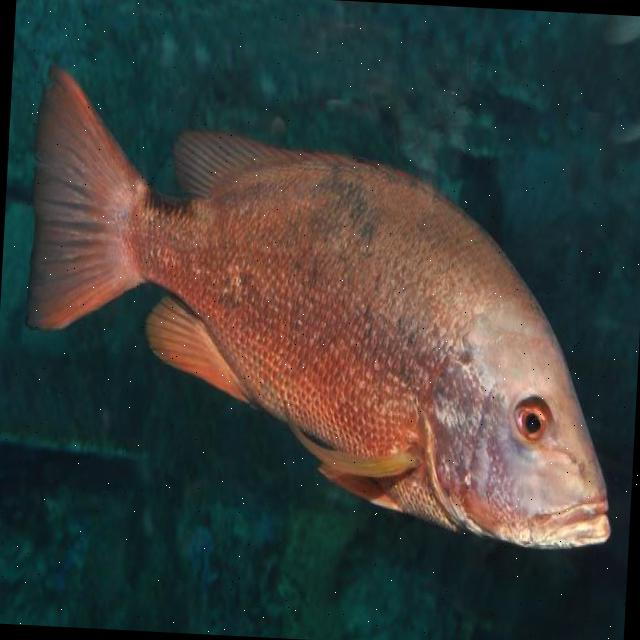ikan: (13, 61, 635, 554)
